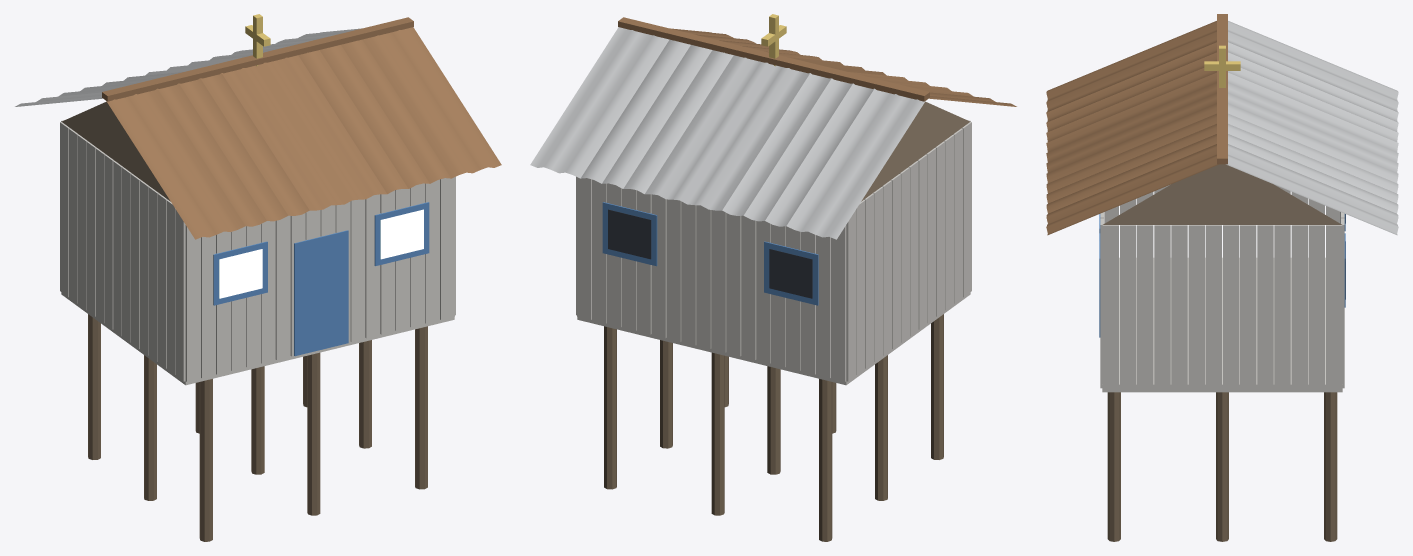
The model's file is stilt_church.glb.
The picture shows the model from 3 angles, left to right: view 1: azimuth 30°, elevation 25°; view 2: azimuth 150°, elevation 25°; view 3: azimuth 270°, elevation 25°; orthographic projection. The views are drawn at different scales.
Visible parts, largest first — view 1: MK_stilt_church; view 2: MK_stilt_church; view 3: MK_stilt_church.
Part boxes in pixels (x1,y1,x2,y2): MK_stilt_church: (15,14,501,541); MK_stilt_church: (530,14,1016,541); MK_stilt_church: (1046,14,1398,541).
Bounding box in the file's own units: 5.7 × 8.1 × 5.87.
